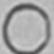no answer: (3, 0, 54, 54)
